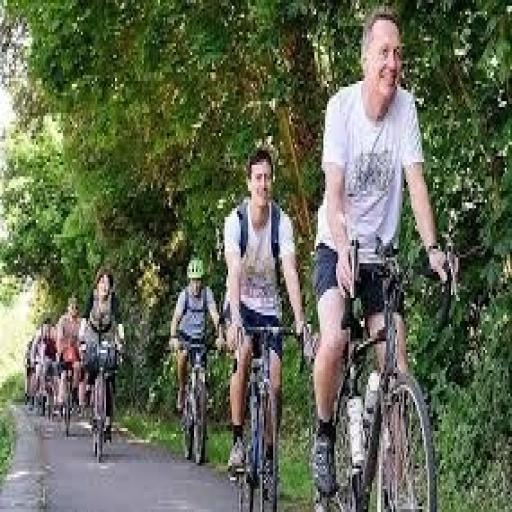cycling: (309, 6, 458, 509), (221, 145, 314, 506), (167, 254, 226, 466), (77, 264, 128, 448), (54, 292, 86, 422), (27, 312, 59, 416)
